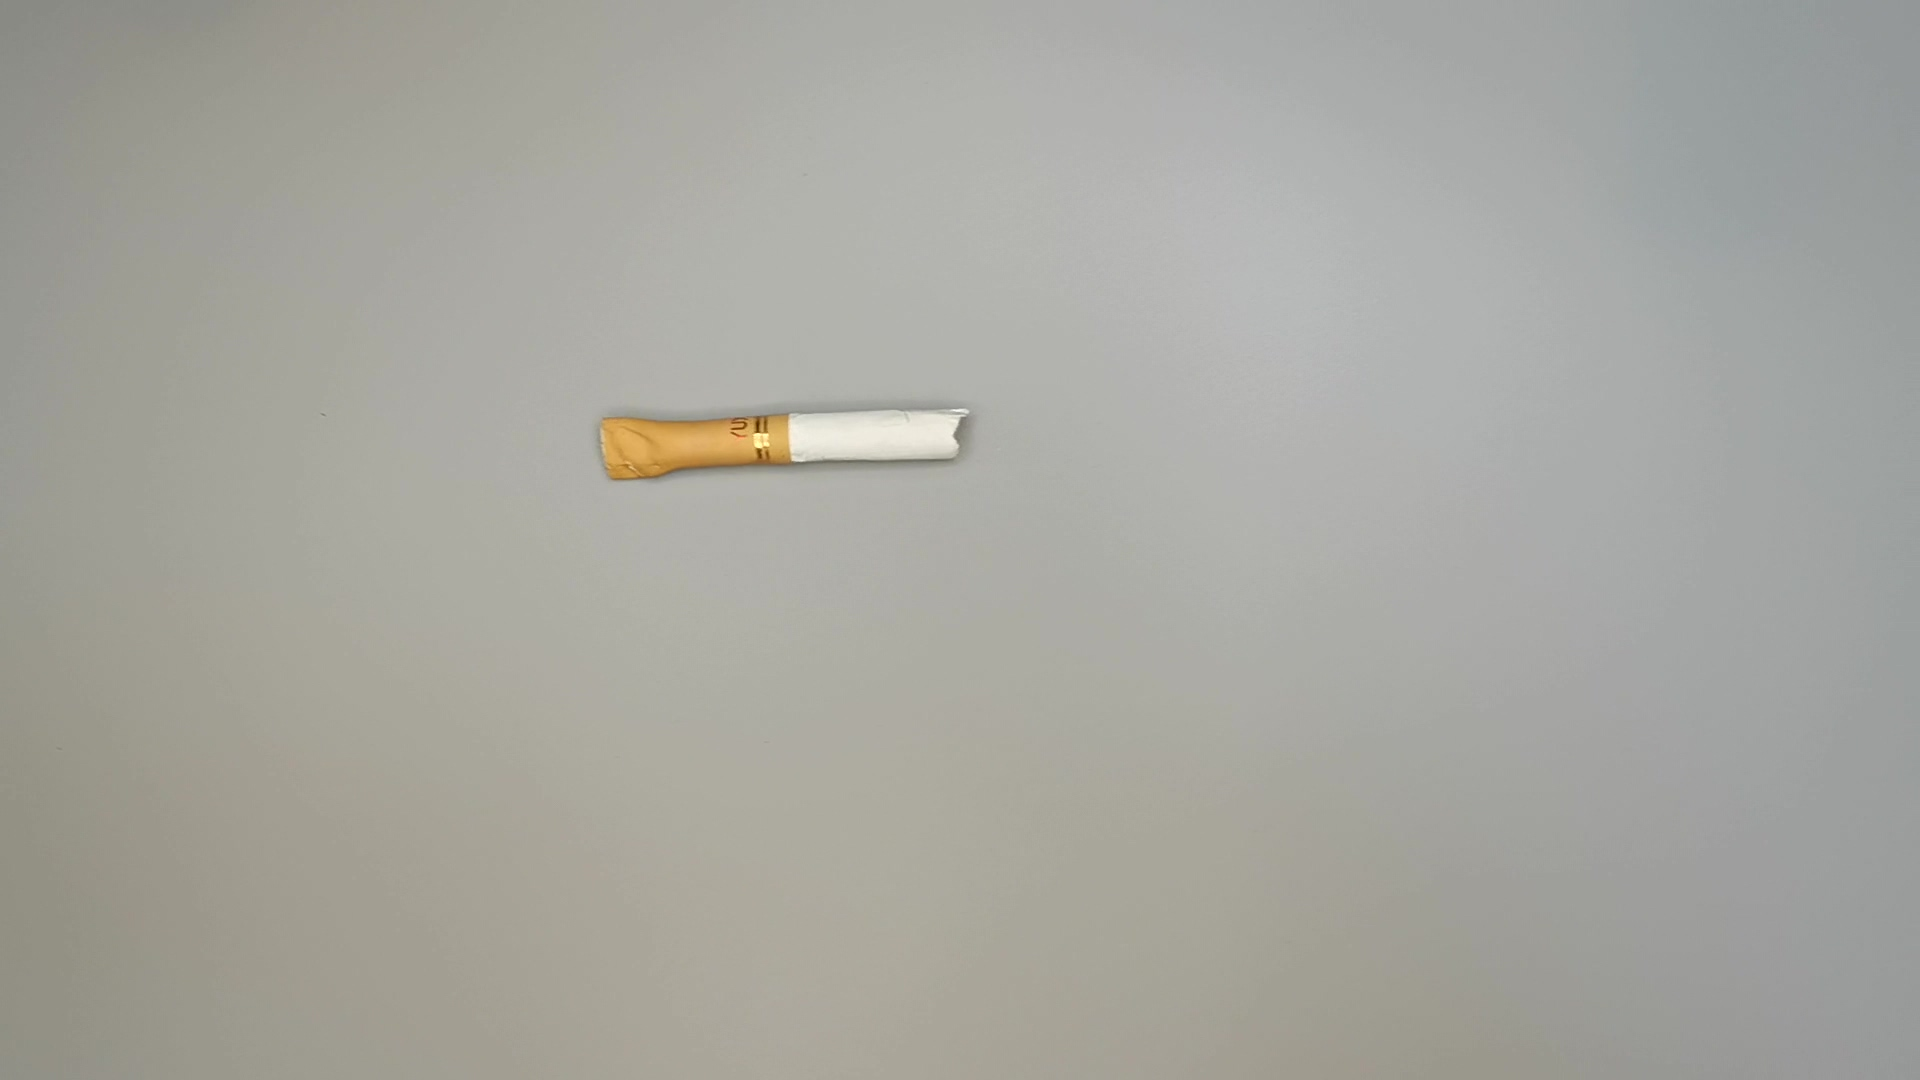cigarette: (600, 411, 981, 487)
